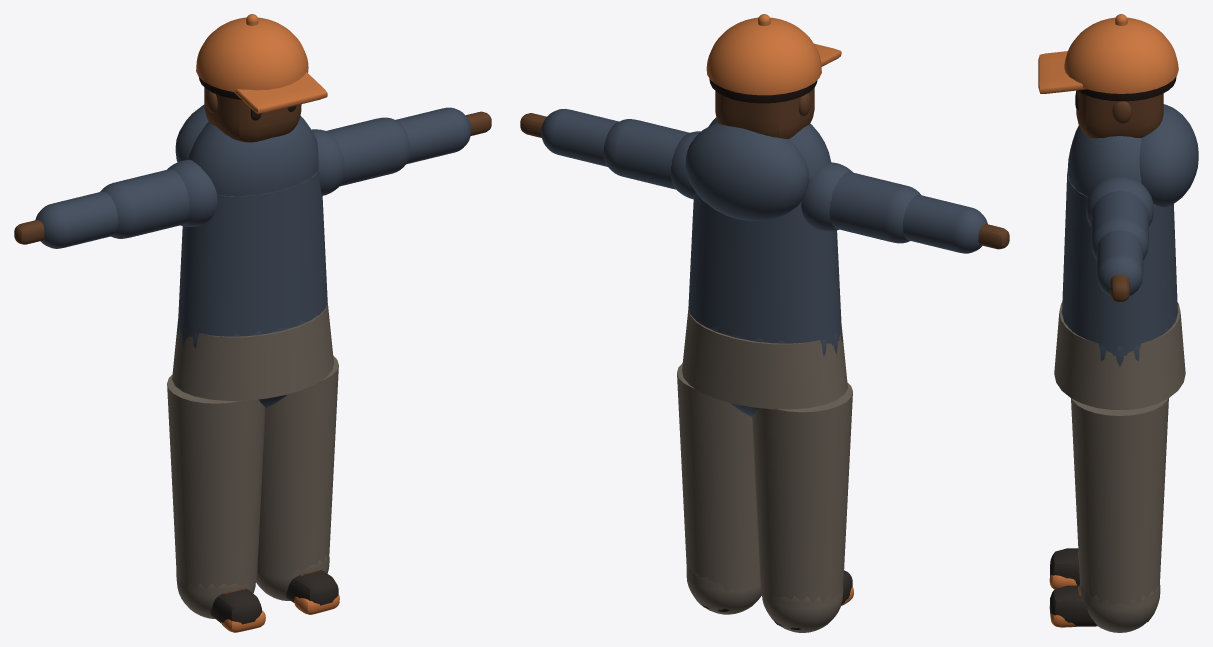
Rendered from kwame.glb.
The picture shows the model from 3 angles, left to right: view 1: azimuth 30°, elevation 25°; view 2: azimuth 150°, elevation 25°; view 3: azimuth 270°, elevation 25°; orthographic projection. The views are drawn at different scales.
Parts seen in each view (by area): view 1: kwame_shirt_body, kwame_pant_leg_l, kwame_pant_leg_r, kwame_bottom_waist, kwame_top_shoulders, kwame_cap_crown, kwame_upperarm_l, kwame_upperarm_r, kwame_forearm_l, kwame_forearm_r, kwame_head, kwame_cap_visor (+7 smaller); view 2: kwame_shirt_body, kwame_pant_leg_l, kwame_pant_leg_r, kwame_bottom_waist, kwame_hood, kwame_cap_crown, kwame_upperarm_l, kwame_upperarm_r, kwame_forearm_l, kwame_forearm_r, kwame_head, kwame_pant_cuff_l (+5 smaller); view 3: kwame_pant_leg_r, kwame_shirt_body, kwame_bottom_waist, kwame_cap_crown, kwame_hood, kwame_top_shoulders, kwame_head, kwame_upperarm_r, kwame_forearm_r, kwame_pant_cuff_r, kwame_cap_visor, kwame_shoe_r (+7 smaller).
Part boxes in pixels (x1,y1,x2,y2): kwame_shirt_body: [178, 171, 327, 338]; kwame_pant_leg_l: [167, 374, 265, 590]; kwame_pant_leg_r: [257, 356, 338, 577]; kwame_bottom_waist: [172, 302, 333, 400]; kwame_top_shoulders: [188, 116, 318, 196]; kwame_cap_crown: [196, 17, 308, 92]; kwame_upperarm_l: [100, 169, 190, 238]; kwame_upperarm_r: [326, 117, 410, 186]; kwame_forearm_l: [35, 191, 118, 248]; kwame_forearm_r: [396, 107, 471, 164]; kwame_head: [204, 87, 301, 142]; kwame_cap_visor: [234, 72, 327, 113]; kwame_shirt_body: [688, 192, 841, 345]; kwame_pant_leg_l: [752, 382, 852, 603]; kwame_pant_leg_r: [677, 363, 760, 590]; kwame_bottom_waist: [682, 308, 847, 409]; kwame_hood: [685, 123, 809, 221]; kwame_cap_crown: [706, 17, 821, 95]; kwame_upperarm_l: [829, 172, 921, 243]; kwame_upperarm_r: [603, 119, 689, 189]; kwame_forearm_l: [902, 194, 987, 253]; kwame_forearm_r: [541, 109, 618, 166]; kwame_head: [715, 88, 814, 138]; kwame_pant_cuff_l: [762, 586, 843, 632]; kwame_pant_leg_r: [1071, 398, 1168, 605]; kwame_shirt_body: [1062, 171, 1177, 355]; kwame_bottom_waist: [1054, 302, 1185, 409]; kwame_cap_crown: [1064, 17, 1178, 93]; kwame_hood: [1139, 104, 1198, 207]; kwame_top_shoulders: [1067, 125, 1141, 196]; kwame_head: [1076, 90, 1163, 138]; kwame_upperarm_r: [1091, 191, 1148, 260]; kwame_forearm_r: [1096, 230, 1143, 295]; kwame_pant_cuff_r: [1079, 582, 1160, 632]; kwame_cap_visor: [1038, 51, 1086, 93]; kwame_shoe_r: [1050, 585, 1149, 626].
Size of the model in its own units: 1.62 by 1.93 by 0.4702.
